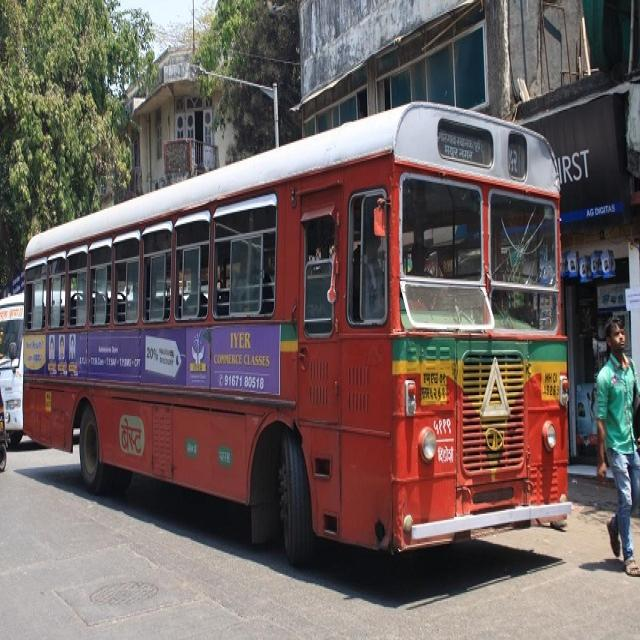bus: (21, 105, 570, 562)
